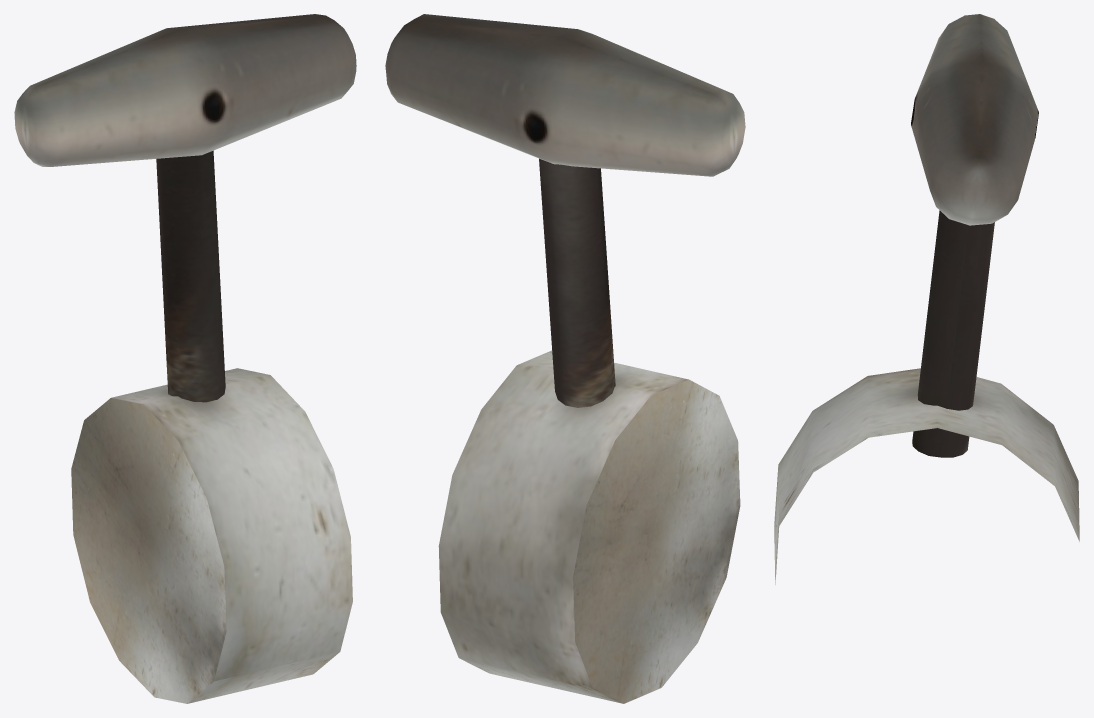
The model's file is Unity2Skfb.gltf.
3 views of the same model, side by side, from view 1: azimuth 30°, elevation 25°; view 2: azimuth 150°, elevation 25°; view 3: azimuth 270°, elevation 25° (orthographic). The views are drawn at different scales.
Parts seen in each view (by area): view 1: node_A31_-5044; view 2: node_A31_-5044; view 3: node_A31_-5044.
Part boxes in pixels (box(x1,y1,x2,y2)): node_A31_-5044: box(14, 14, 356, 703); node_A31_-5044: box(385, 14, 745, 703); node_A31_-5044: box(774, 14, 1079, 584).
Size of the model in its own units: 0.1188 by 0.2246 by 0.102.
1 material, 1 textured.
